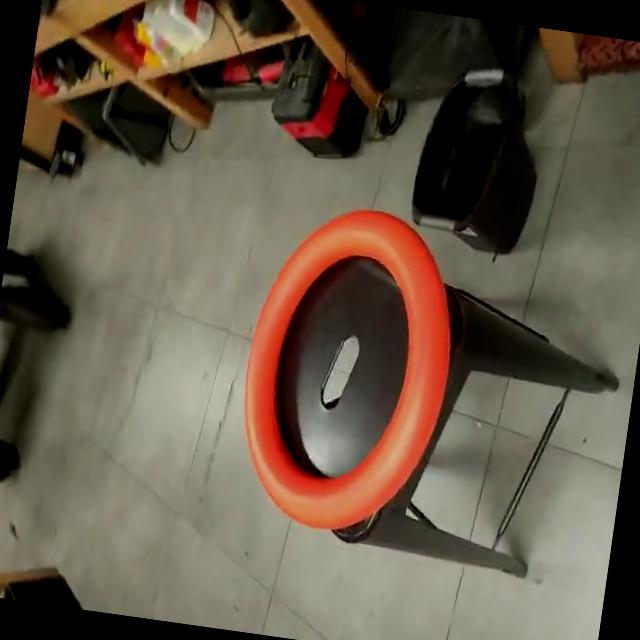note: (224, 196, 471, 548)
